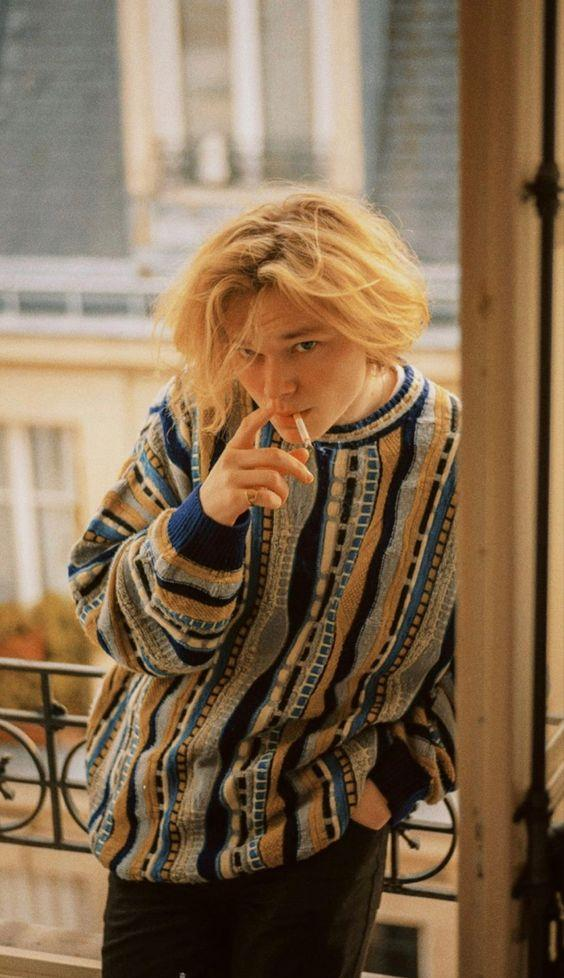cigarette: (292, 412, 312, 451)
